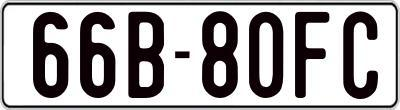0: (246, 12, 281, 104)
6: (80, 11, 117, 102), (31, 11, 66, 99)
8: (201, 8, 237, 98)
B: (125, 9, 165, 95)
C: (341, 8, 379, 98)
F: (295, 12, 334, 101)
